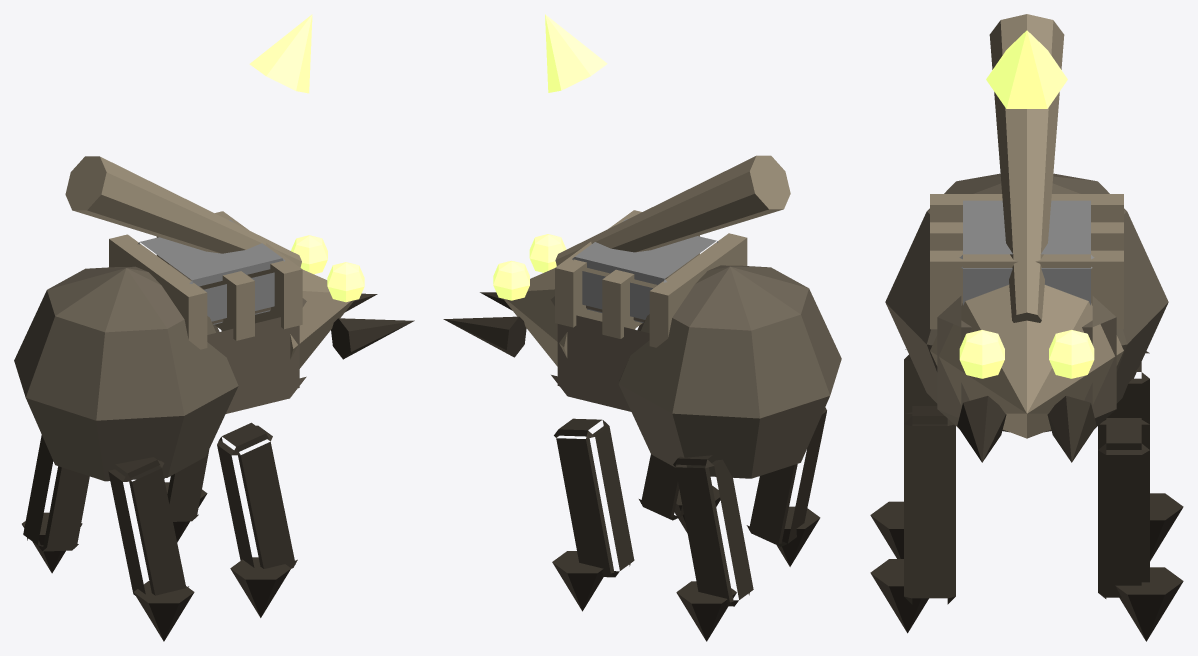
File: bl_screamer.glb
The picture shows the model from 3 angles, left to right: view 1: azimuth 30°, elevation 25°; view 2: azimuth 150°, elevation 25°; view 3: azimuth 270°, elevation 25°; orthographic projection. The views are drawn at different scales.
Visible parts, largest first — view 1: body, leg_2_a, leg_3_b, leg_1_a, leg_0_b; view 2: body, leg_0_b, leg_1_a, leg_3_b, leg_2_a; view 3: body, leg_2_a, leg_0_b, leg_1_a, leg_3_b.
Boxes of the visible parts, bbox=[...] form: body: bbox=[14, 14, 414, 481]; leg_2_a: bbox=[217, 422, 297, 617]; leg_3_b: bbox=[108, 457, 194, 641]; leg_1_a: bbox=[22, 435, 89, 573]; leg_0_b: bbox=[164, 449, 209, 542]; body: bbox=[443, 14, 841, 478]; leg_0_b: bbox=[552, 418, 634, 611]; leg_1_a: bbox=[673, 455, 753, 641]; leg_3_b: bbox=[746, 407, 826, 566]; leg_2_a: bbox=[639, 454, 720, 533]; body: bbox=[885, 14, 1168, 462]; leg_2_a: bbox=[870, 406, 955, 633]; leg_0_b: bbox=[1098, 418, 1183, 641]; leg_1_a: bbox=[1098, 351, 1183, 561]; leg_3_b: bbox=[870, 349, 947, 558].
Size of the model in its own units: 13.02 by 18.25 by 7.81.
